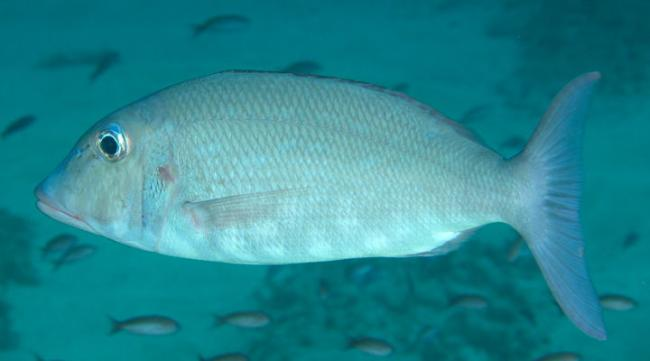fish: (32, 68, 612, 341)
